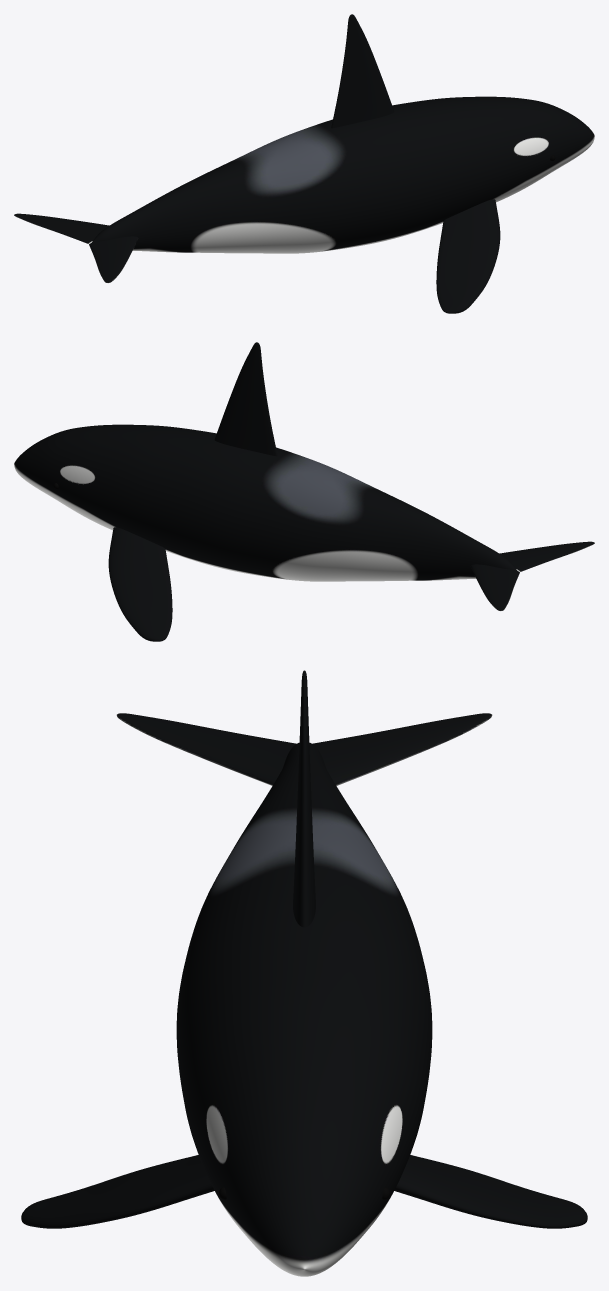
File: orcaMale.glb
The picture shows the model from 3 angles, top to bottom: view 1: azimuth 30°, elevation 25°; view 2: azimuth 150°, elevation 25°; view 3: azimuth 270°, elevation 25°; orthographic projection. The views are drawn at different scales.
Parts seen in each view (by area): view 1: skin; view 2: skin; view 3: skin.
Part boxes in pixels (x1=…): skin: x1=14, y1=14, x2=594, y2=313; skin: x1=14, y1=342, x2=594, y2=641; skin: x1=21, y1=670, x2=587, y2=1276.
Size of the model in its own units: 4.1 by 1.88 by 1.88.
1 material, 1 textured.
